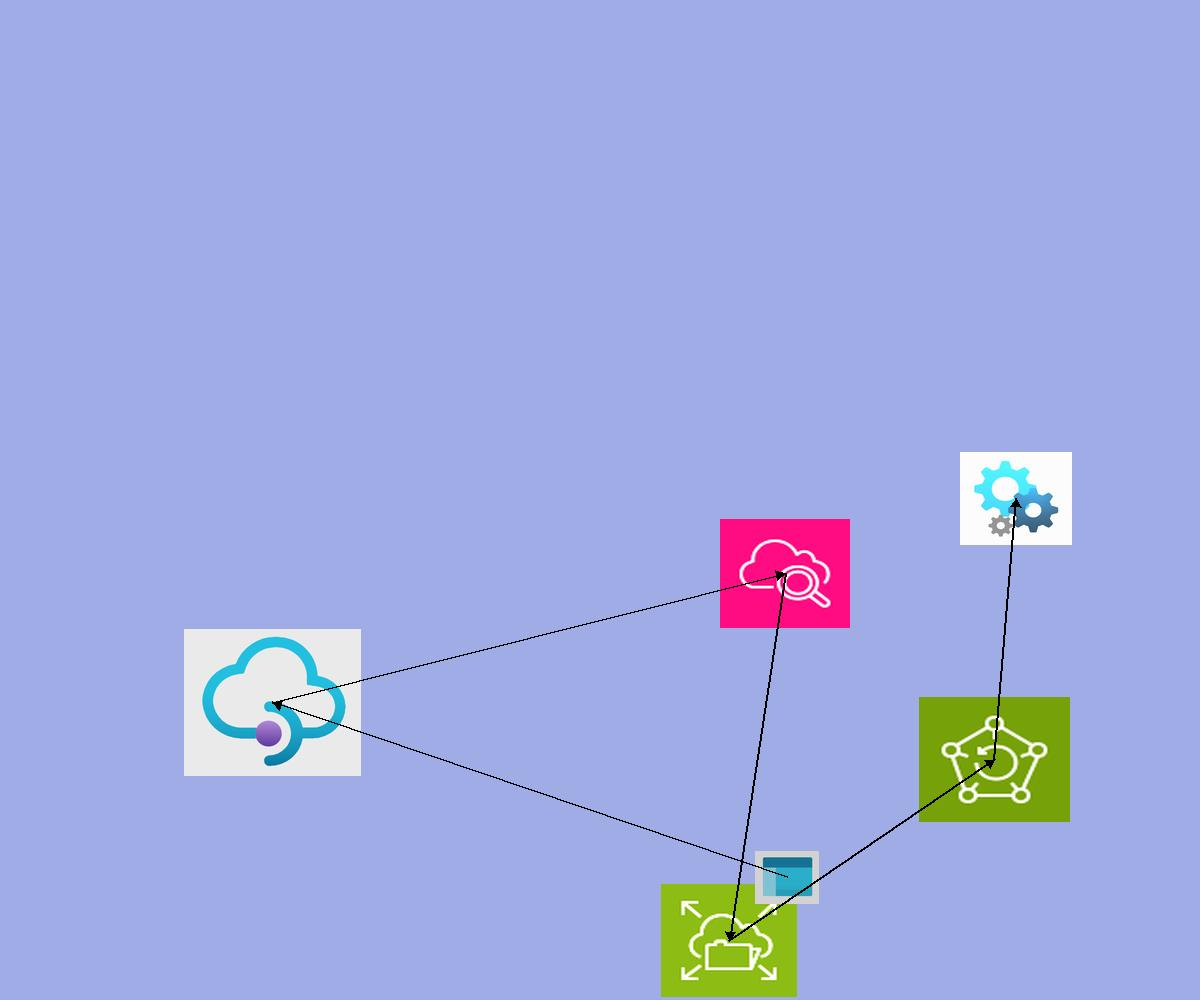AWS-Backup: (919, 697, 1070, 822)
AWS-CloudWatch: (720, 519, 850, 628)
AWS-EFS: (661, 884, 797, 997)
Azure_api: (960, 452, 1072, 545)
Azure_api_gateway: (184, 629, 361, 776)
Azure_management-portal: (755, 851, 819, 904)
